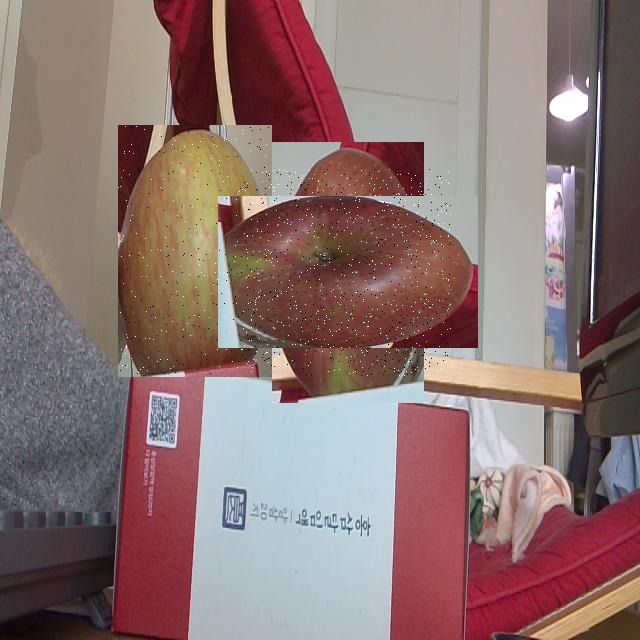apple: (245, 169, 451, 376), (118, 125, 272, 377)
